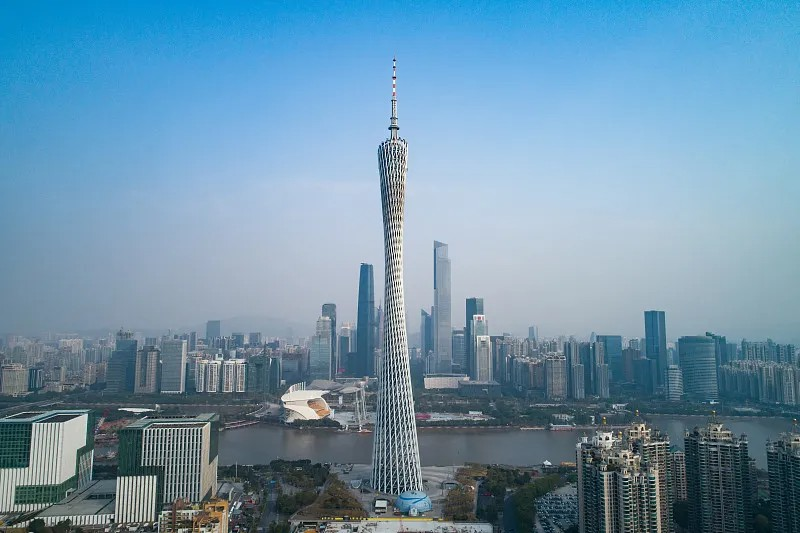Canton: (367, 54, 430, 497)
